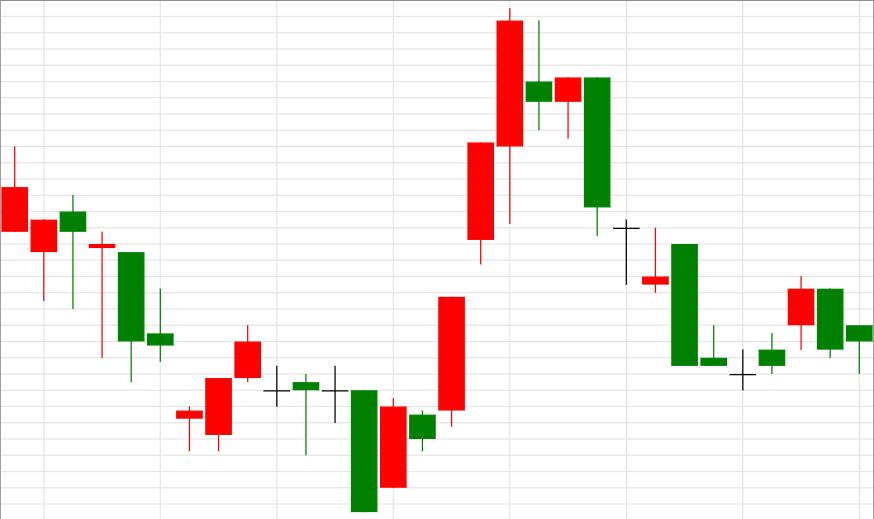three_white_soldiers_rise: (263, 8, 524, 512)
